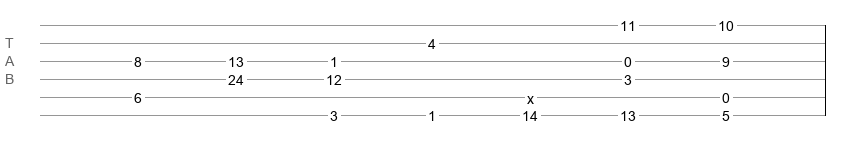0: (624, 54, 632, 64), (722, 90, 730, 100)
1: (330, 54, 338, 64), (428, 108, 436, 118)
10: (718, 18, 734, 28)
11: (620, 18, 636, 28)
12: (326, 72, 342, 82)
13: (228, 54, 244, 64), (620, 108, 636, 118)
14: (522, 108, 538, 118)
24: (228, 72, 244, 82)
3: (330, 108, 338, 118), (624, 72, 632, 82)
4: (428, 36, 436, 46)
5: (722, 108, 730, 118)
6: (134, 90, 142, 100)
8: (134, 54, 142, 64)
9: (722, 54, 730, 64)
x: (527, 91, 534, 99)
